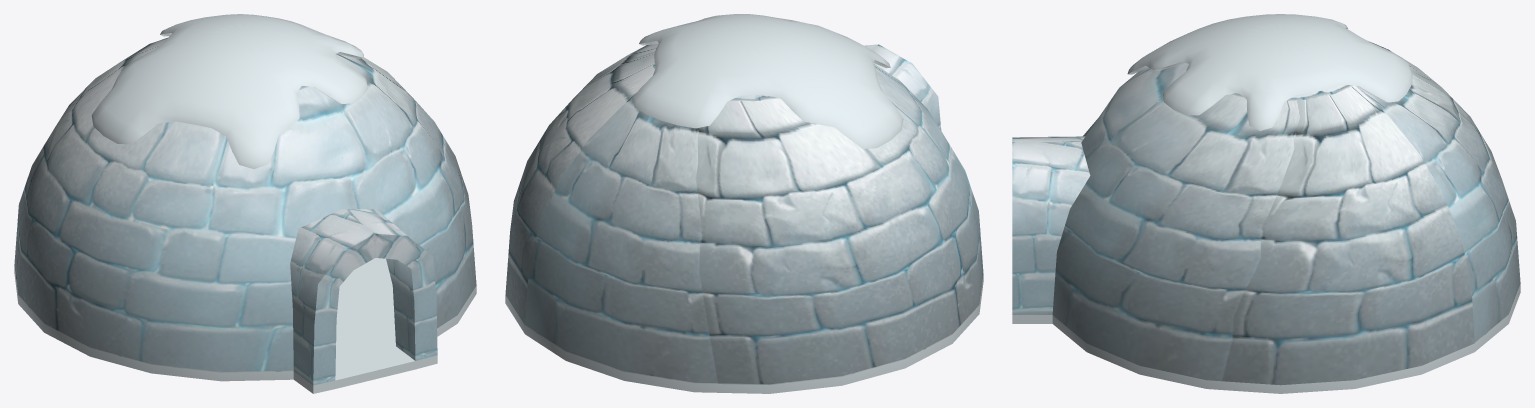
Rendered from 5-iglo.glb.
3 renders of one model, left to right at view 1: azimuth 30°, elevation 25°; view 2: azimuth 150°, elevation 25°; view 3: azimuth 270°, elevation 25°, orthographic. The views are drawn at different scales.
Parts seen in each view (by area): view 1: igloo house.001; view 2: igloo house.001; view 3: igloo house.001.
Part boxes in pixels (box(x1,y1,x2,y2)): igloo house.001: box(14, 14, 476, 393); igloo house.001: box(505, 14, 983, 393); igloo house.001: box(1012, 14, 1520, 393).
Size of the model in its own units: 10.42 by 6.16 by 11.04.
Materials: 1 (1 with a texture image).
